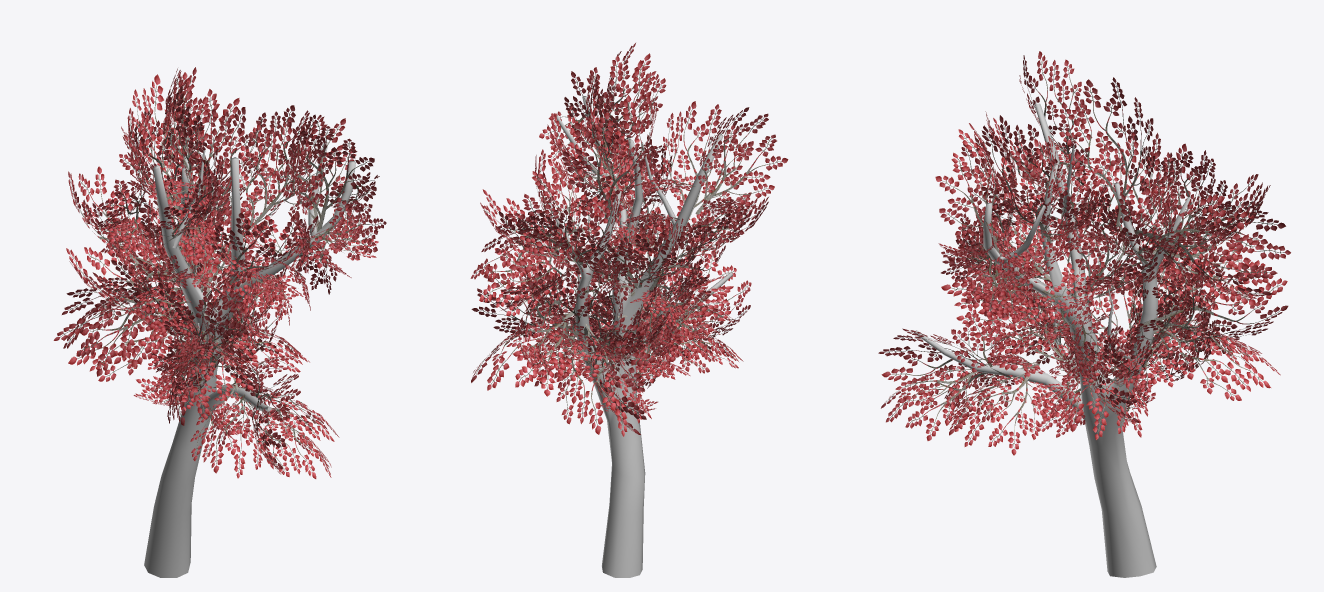
Rendered from Tree_02.FBX.
The picture shows the model from 3 angles, left to right: view 1: azimuth 30°, elevation 25°; view 2: azimuth 150°, elevation 25°; view 3: azimuth 270°, elevation 25°; orthographic projection. The views are drawn at different scales.
Visible parts, largest first — view 1: Cylinder004; view 2: Cylinder004; view 3: Cylinder004.
Part boxes in pixels (left/top/right/bottom): Cylinder004: left=53, top=67, right=386, bottom=577; Cylinder004: left=470, top=43, right=788, bottom=577; Cylinder004: left=878, top=51, right=1290, bottom=577.
Size of the model in its own units: 152 by 243 by 193.
